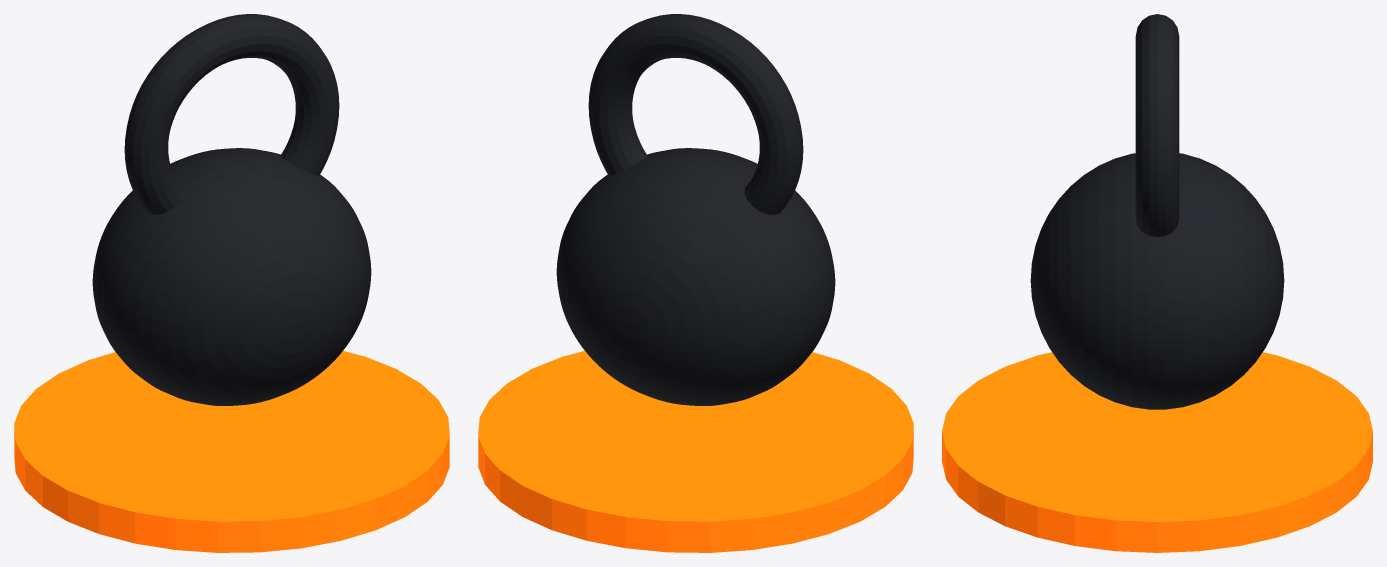
File: fitness_kettlebell.dae
3 views of the same model, side by side, from view 1: azimuth 30°, elevation 25°; view 2: azimuth 150°, elevation 25°; view 3: azimuth 270°, elevation 25° (orthographic).
Parts seen in each view (by area): view 1: 02_02_Popular_Fitness_Kettlebell_ROOT_base, 02_02_Popular_Fitness_Kettlebell_part_01, 02_02_Popular_Fitness_Kettlebell_part_02; view 2: 02_02_Popular_Fitness_Kettlebell_ROOT_base, 02_02_Popular_Fitness_Kettlebell_part_01, 02_02_Popular_Fitness_Kettlebell_part_02; view 3: 02_02_Popular_Fitness_Kettlebell_ROOT_base, 02_02_Popular_Fitness_Kettlebell_part_01, 02_02_Popular_Fitness_Kettlebell_part_02.
Part boxes in pixels (<box>): 02_02_Popular_Fitness_Kettlebell_ROOT_base: <box>14,351,449,552</box>; 02_02_Popular_Fitness_Kettlebell_part_01: <box>92,148,371,405</box>; 02_02_Popular_Fitness_Kettlebell_part_02: <box>124,14,339,214</box>; 02_02_Popular_Fitness_Kettlebell_ROOT_base: <box>478,351,913,552</box>; 02_02_Popular_Fitness_Kettlebell_part_01: <box>556,148,835,405</box>; 02_02_Popular_Fitness_Kettlebell_part_02: <box>588,14,803,214</box>; 02_02_Popular_Fitness_Kettlebell_ROOT_base: <box>942,352,1372,552</box>; 02_02_Popular_Fitness_Kettlebell_part_01: <box>1030,153,1284,409</box>; 02_02_Popular_Fitness_Kettlebell_part_02: <box>1135,14,1179,237</box>.
Bounding box in the file's own units: 0.76 × 0.85 × 0.76.
